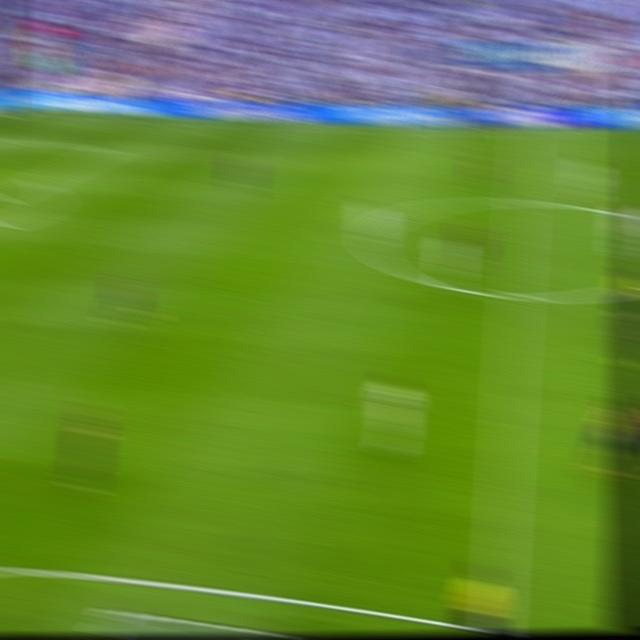corner: (5, 103, 28, 115)
halfcircle_bottom: (502, 280, 530, 310)
halfcircle_top: (509, 191, 535, 213)
midline_bottom_intersection: (480, 613, 512, 634)
midline_top_intersection: (516, 125, 538, 140)
